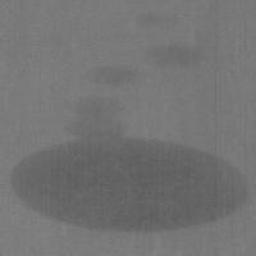Oil spot: (6, 9, 252, 237)
